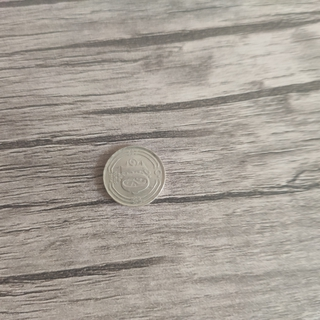10KURUS: (101, 143, 165, 207)
